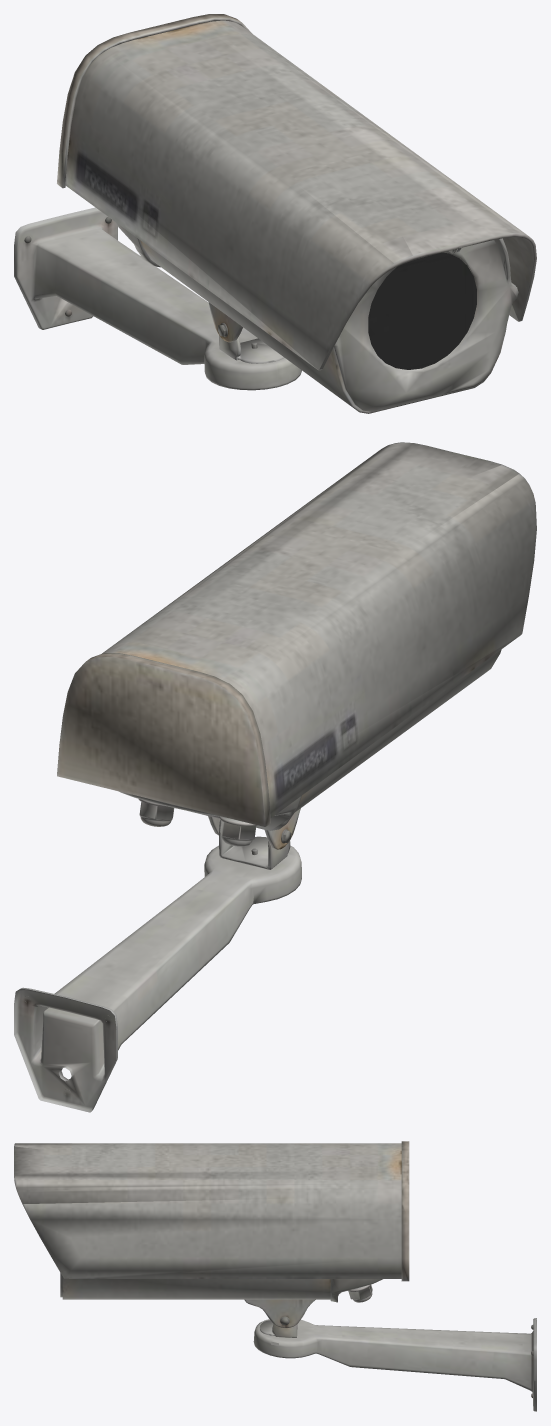
Rendered from security_camera_01.glb.
3 views of the same model, one above another, from view 1: azimuth 30°, elevation 25°; view 2: azimuth 150°, elevation 25°; view 3: azimuth 270°, elevation 25° (orthographic). The views are drawn at different scales.
Parts seen in each view (by area): view 1: security_camera_01; view 2: security_camera_01; view 3: security_camera_01.
Boxes of the visible parts, left/top/right/bottom form: security_camera_01: left=14, top=14, right=536, bottom=413; security_camera_01: left=14, top=442, right=536, bottom=1112; security_camera_01: left=14, top=1141, right=536, bottom=1411.
Bounding box in the file's own units: 0.1695 × 0.2861 × 0.5537.
2 materials, 2 textured.
